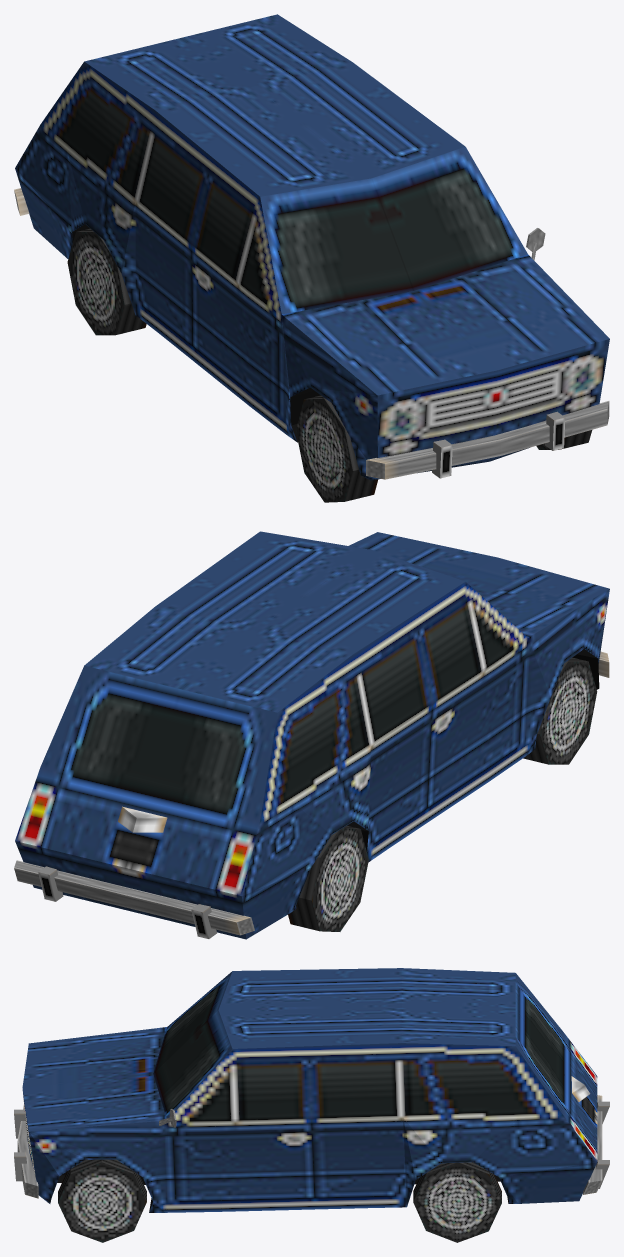
The model's file is Auto2azul.fbx.
3 views of the same model, one above another, from view 1: azimuth 30°, elevation 25°; view 2: azimuth 150°, elevation 25°; view 3: azimuth 270°, elevation 25° (orthographic). The views are drawn at different scales.
Visible parts, largest first — view 1: Car; view 2: Car; view 3: Car.
Boxes of the visible parts, <box> form: Car: <box>14,14,609,502</box>; Car: <box>14,531,609,939</box>; Car: <box>14,968,609,1242</box>.
Size of the model in its own units: 256 by 217 by 615.
1 material, 1 textured.
